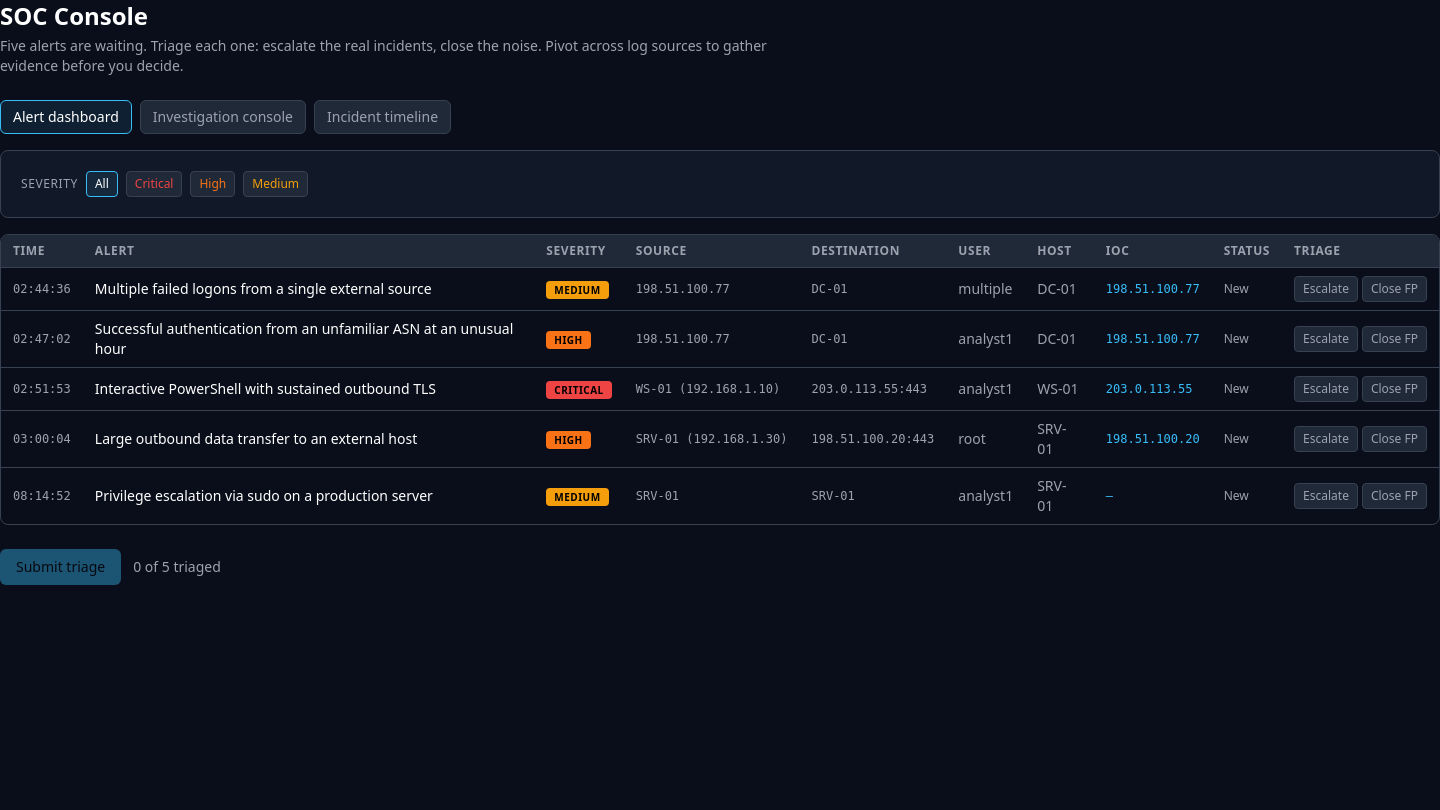
Test case: SOC Console › pivots on an indicator across multiple sources
Click the button "Investigation console" at (223,117), box x1=140 y1=100 x2=306 y2=134
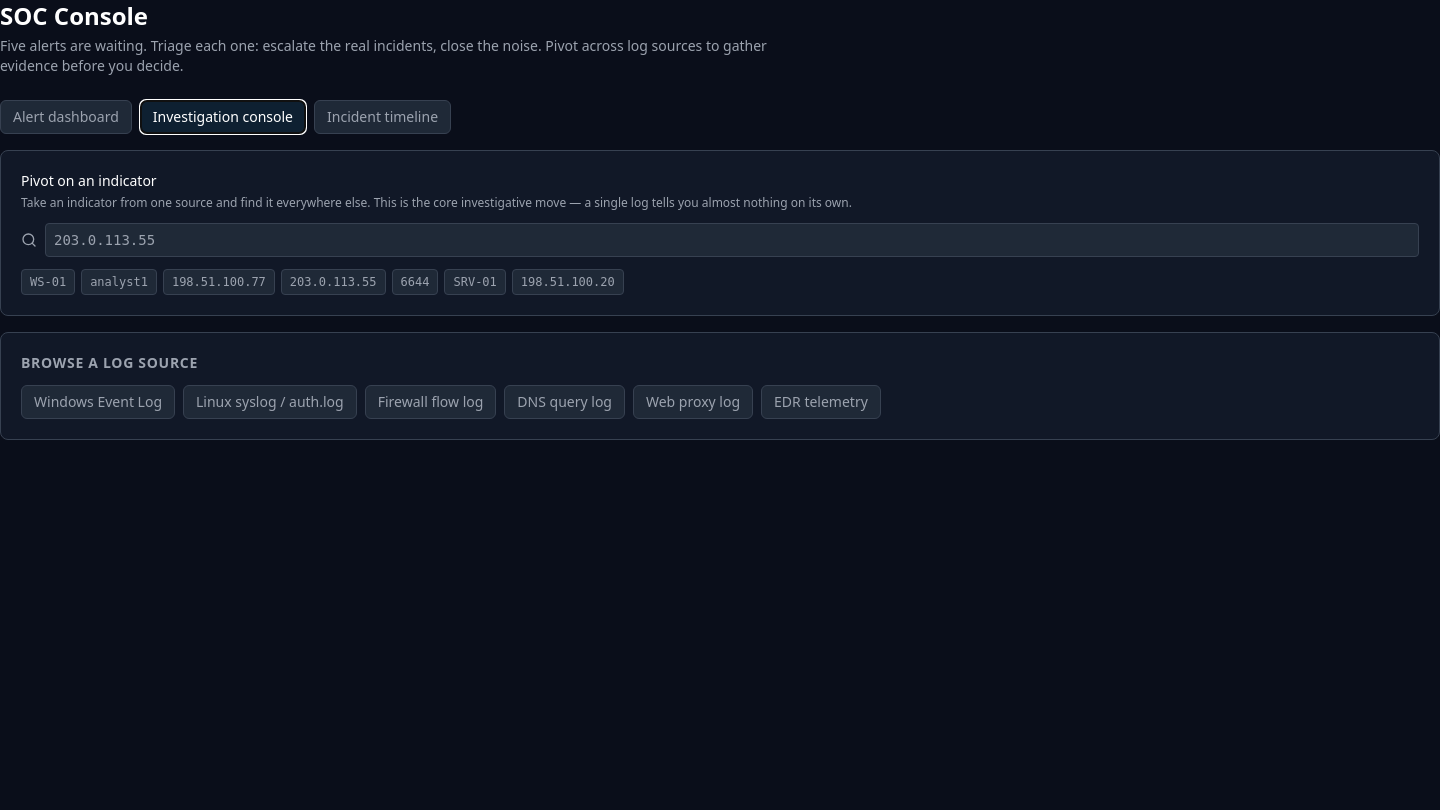
Type "WS-01" into the field named "Pivot indicator" at (732,240), box x1=45 y1=223 x2=1419 y2=257
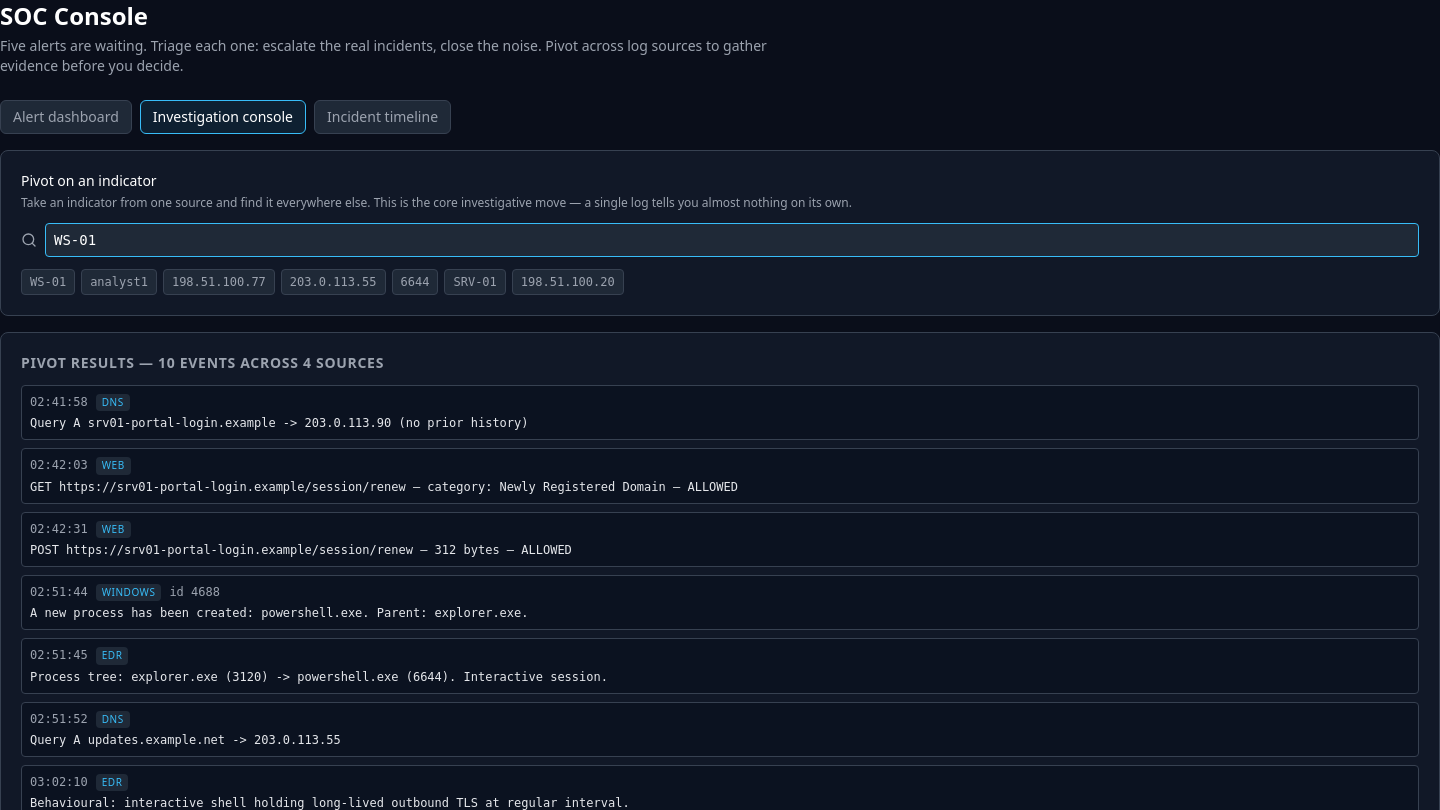
Result: the number of list items is 10
